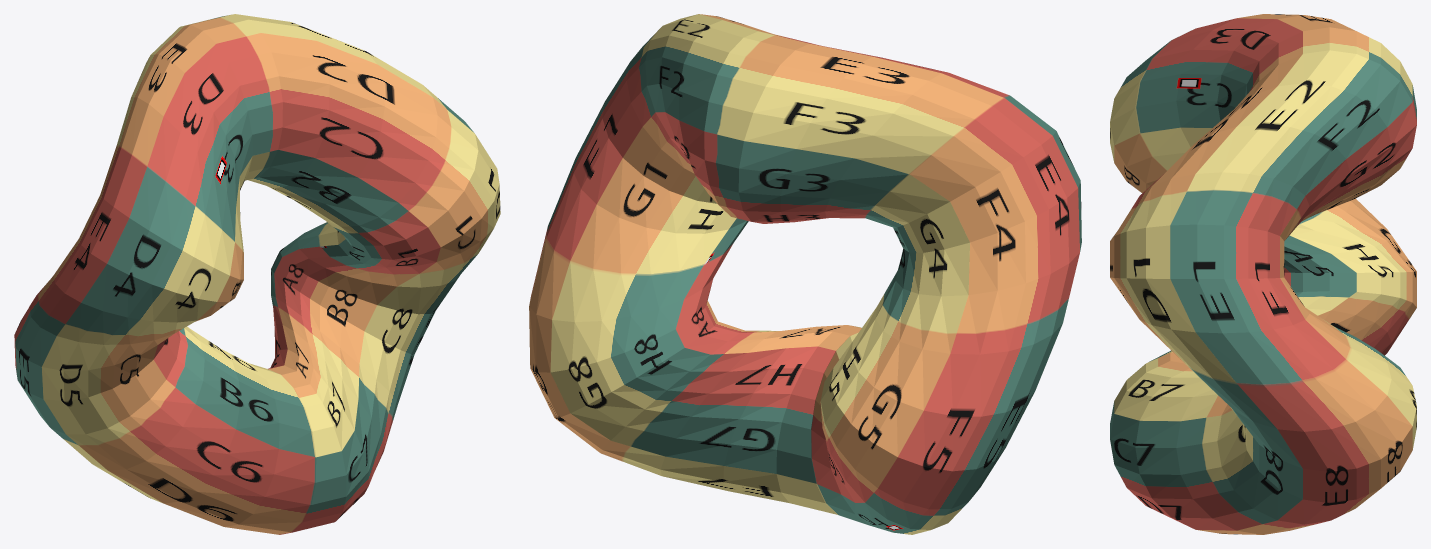
3 renders of one model, left to right at view 1: azimuth 30°, elevation 25°; view 2: azimuth 150°, elevation 25°; view 3: azimuth 270°, elevation 25°, orthographic. The views are drawn at different scales.
Visible parts, largest first — view 1: Node-Mesh; view 2: Node-Mesh; view 3: Node-Mesh.
Part boxes in pixels (x1,y1,x2,y2): Node-Mesh: [14, 14, 500, 534]; Node-Mesh: [529, 14, 1081, 534]; Node-Mesh: [1110, 14, 1416, 534].
Size of the model in its own units: 3 by 2.98 by 1.76.
Materials: 1 (1 with a texture image).
